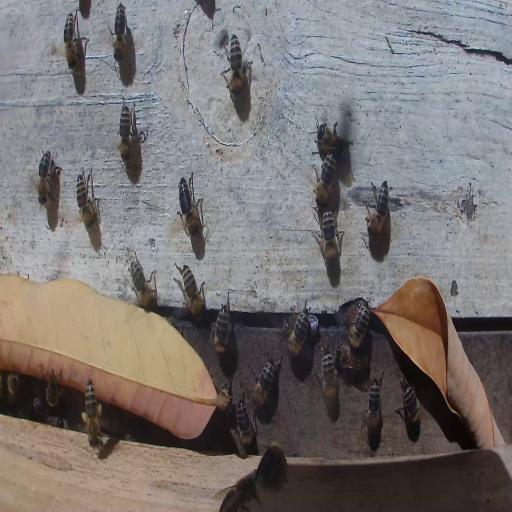bee: (315, 119, 352, 170), (174, 264, 206, 321), (177, 172, 203, 238), (256, 442, 290, 489), (80, 379, 102, 451), (319, 207, 342, 275), (129, 258, 159, 310), (75, 169, 100, 231), (218, 474, 258, 511), (320, 347, 341, 415), (250, 358, 276, 411), (226, 32, 246, 100), (284, 305, 310, 356), (366, 179, 390, 234), (336, 342, 369, 382), (399, 377, 422, 434), (235, 395, 256, 456), (365, 375, 383, 444), (314, 151, 336, 206), (118, 100, 136, 164), (347, 302, 370, 349), (212, 298, 230, 356), (64, 12, 79, 73), (112, 2, 126, 59), (37, 151, 51, 206), (6, 370, 20, 408), (46, 374, 59, 411), (31, 394, 46, 417)
